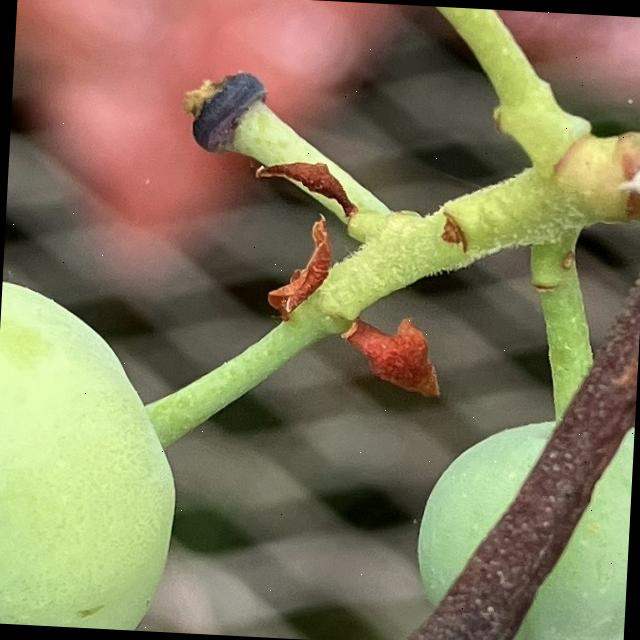Blueberries: (0, 272, 191, 632)
